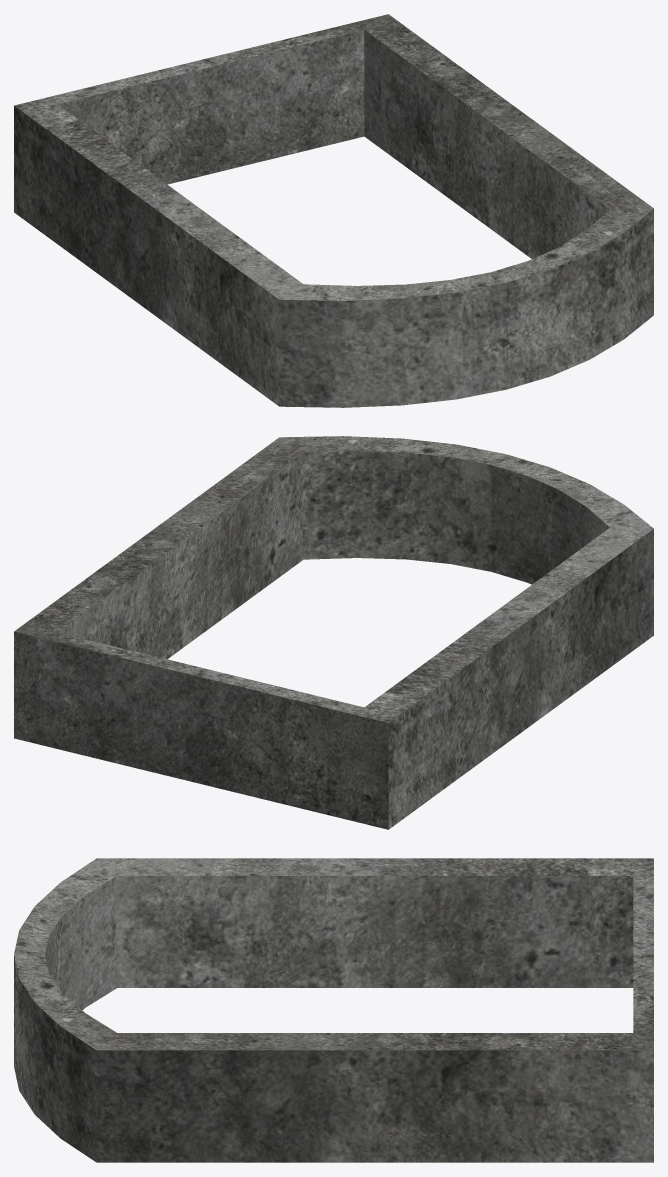
File: moscow_window1_obj.glb
The picture shows the model from 3 angles, top to bottom: view 1: azimuth 30°, elevation 25°; view 2: azimuth 150°, elevation 25°; view 3: azimuth 270°, elevation 25°; orthographic projection. The views are drawn at different scales.
Size of the model in its own units: 44 by 12 by 62.
Materials: 1 (1 with a texture image).
